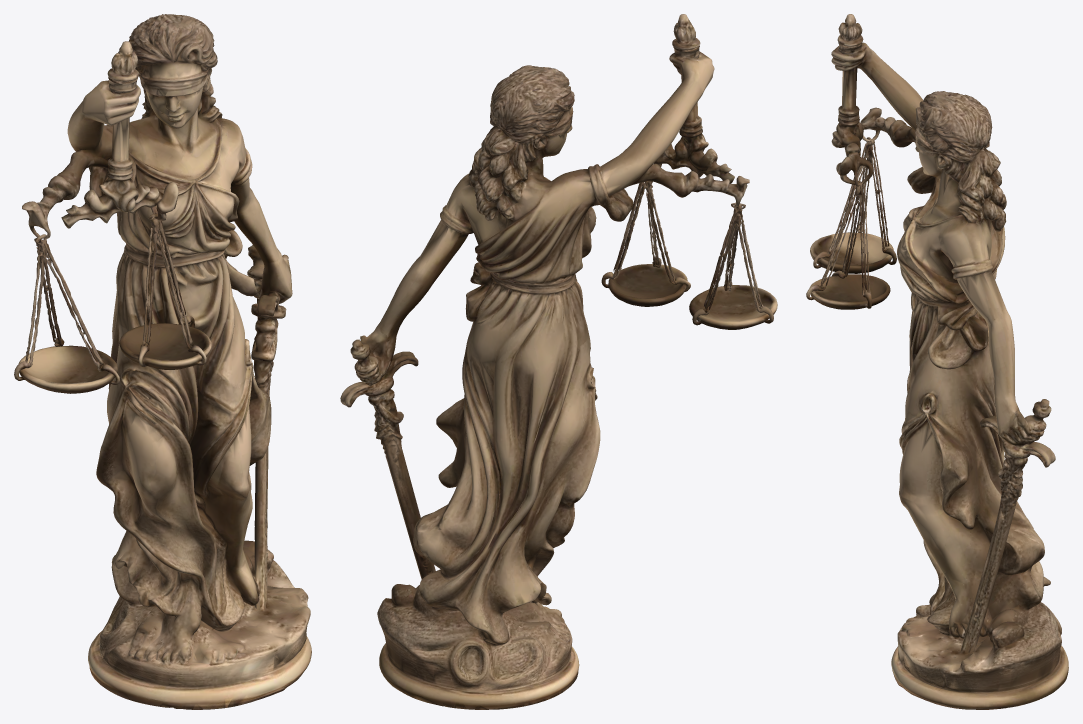
File: femida.glb
3 renders of one model, left to right at view 1: azimuth 30°, elevation 25°; view 2: azimuth 150°, elevation 25°; view 3: azimuth 270°, elevation 25°, orthographic. The views are drawn at different scales.
Parts seen in each view (by area): view 1: node_0; view 2: node_0; view 3: node_0.
Boxes of the visible parts, x1,y1,x2,y2 form: node_0: (14, 14, 311, 709); node_0: (340, 14, 777, 709); node_0: (806, 14, 1068, 709).
Bounding box in the file's own units: 0.5793 × 1.06 × 0.4249.
Materials: 1 (1 with a texture image).
